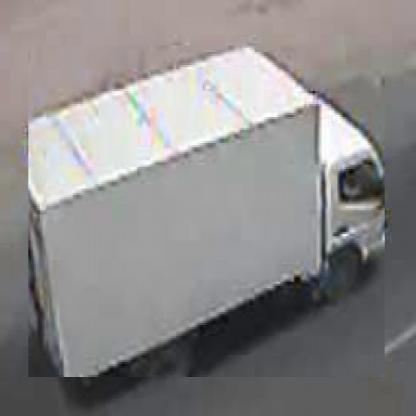truck: (28, 47, 386, 380)
